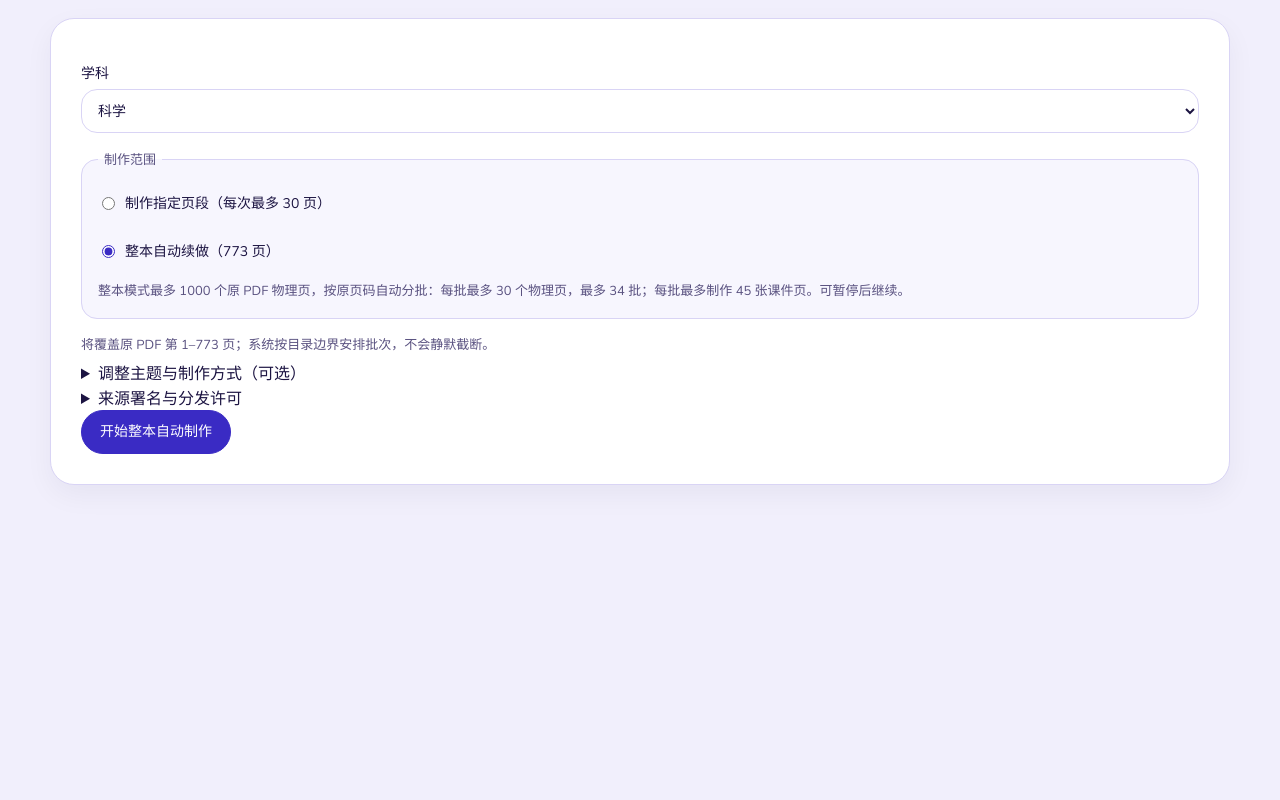
Test: user Given a 773-page textbook When opening new production Then whole-book is recommended without starting until the explicit action
The width and height of the screenshot is (1280, 800).
Expected: the radio button labelled "整本自动续做（773 页）" is checked, [102, 244, 115, 258]
Click the button "开始整本自动制作".
click(156, 432)  # box [81, 410, 231, 454]
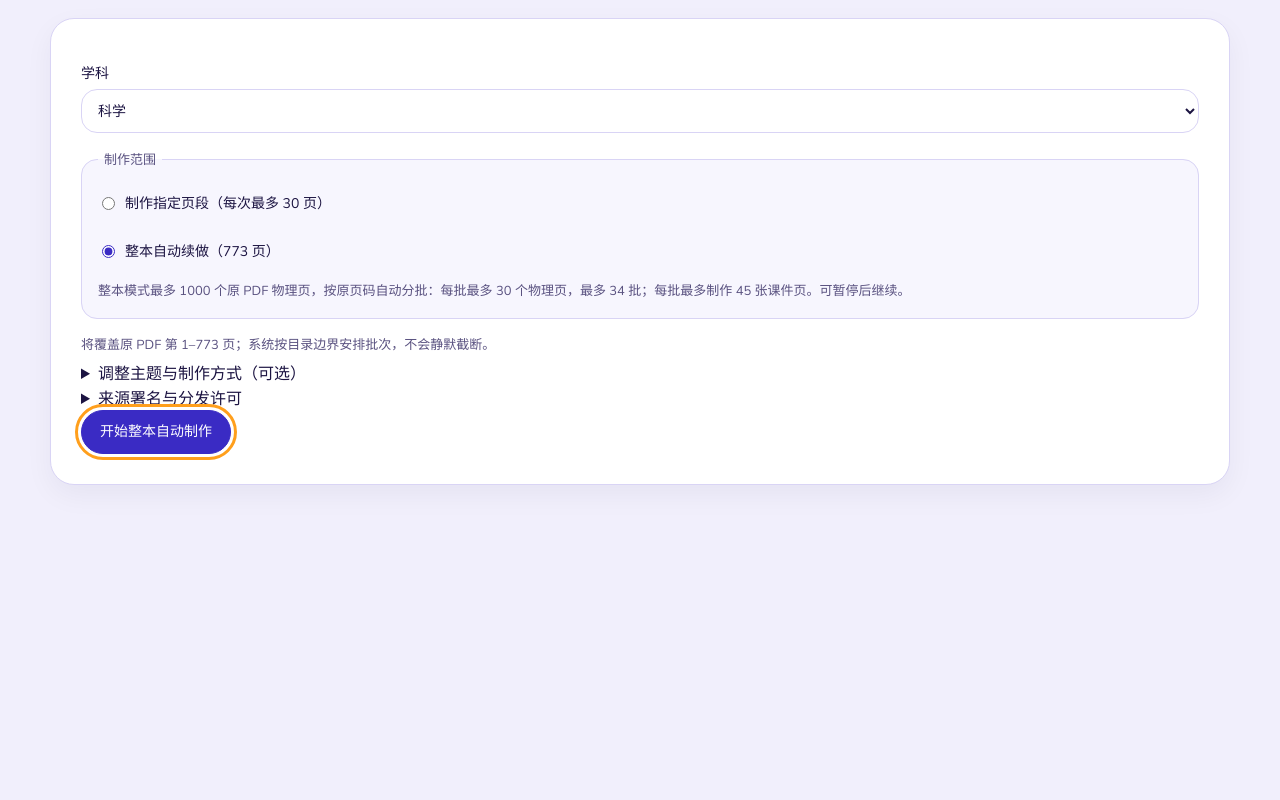
Click the radio button labelled "制作指定页段（每次最多 30 页）".
click(108, 203)  # box [102, 196, 115, 210]
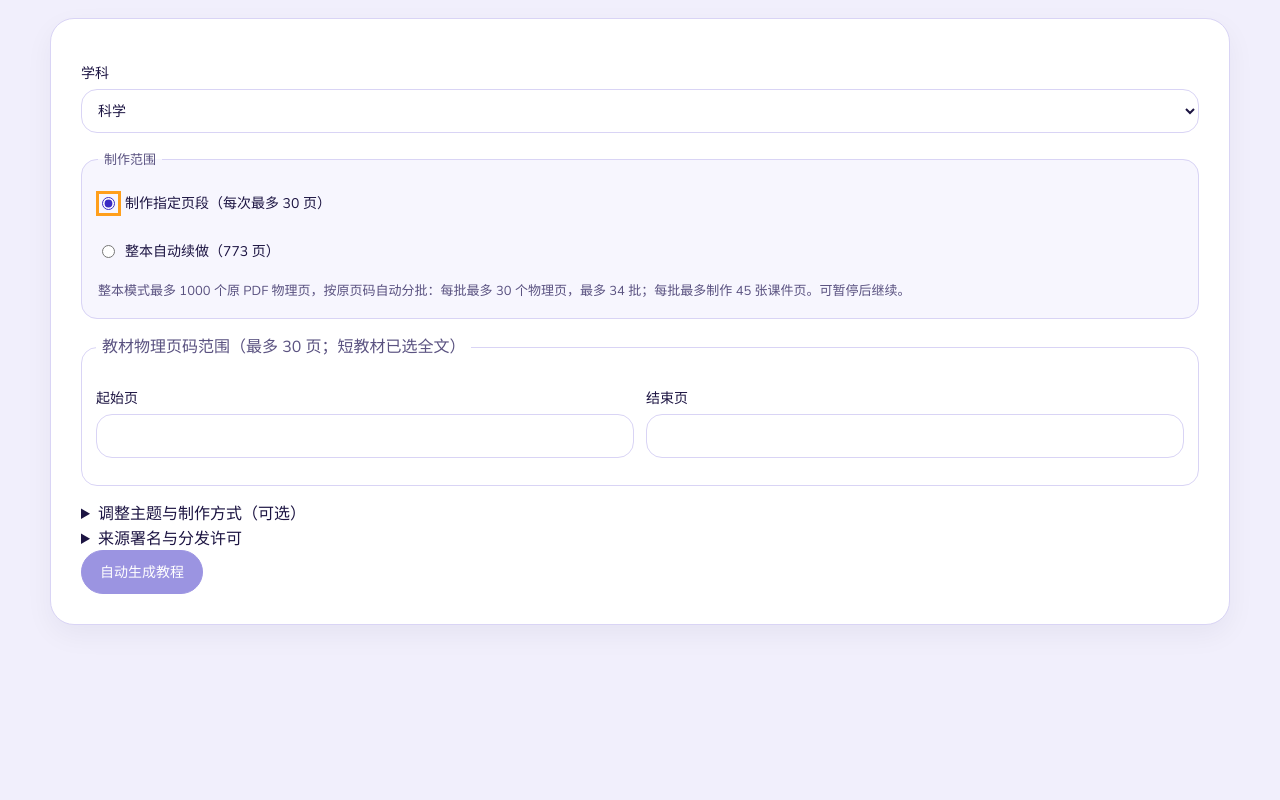
Type "45" into the number field labelled "起始页".
click(365, 436); type("45")  # box [96, 414, 634, 458]
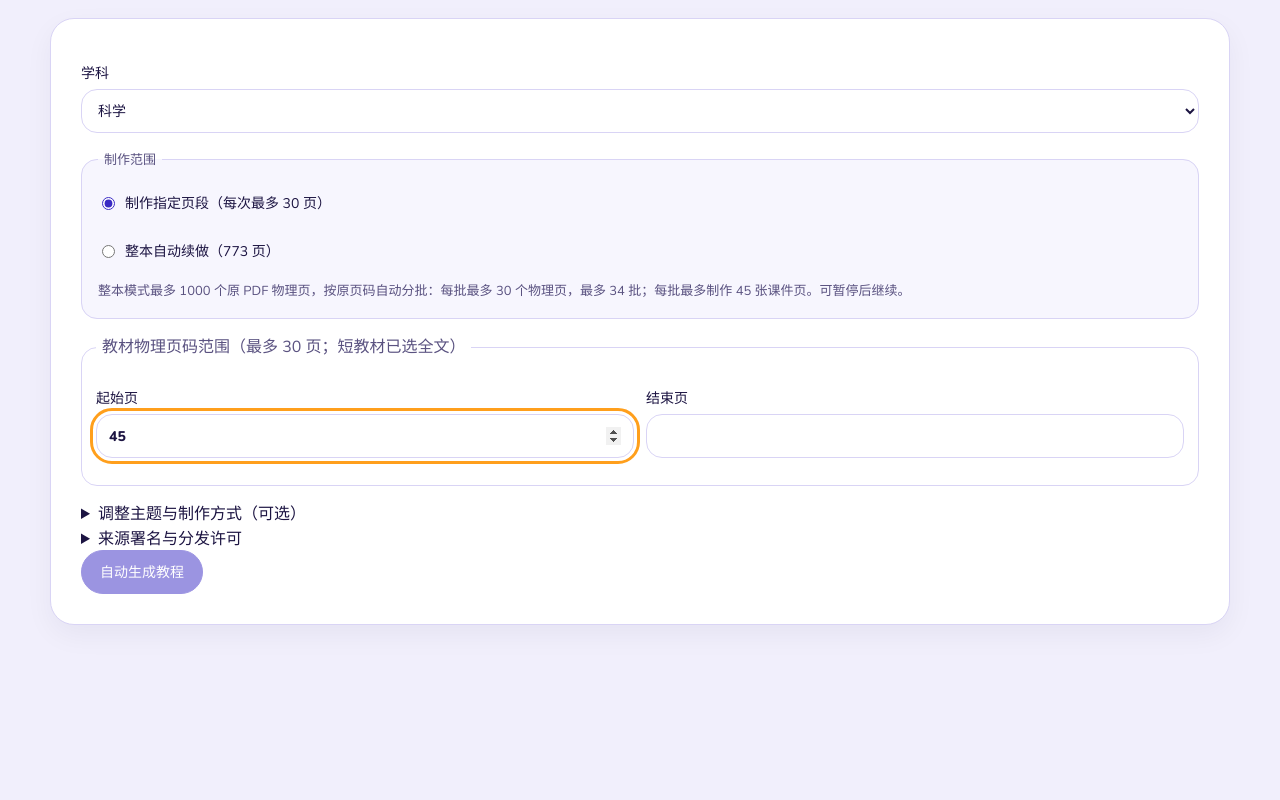
Type "60" into the number field labelled "结束页".
click(915, 436); type("60")  # box [646, 414, 1184, 458]
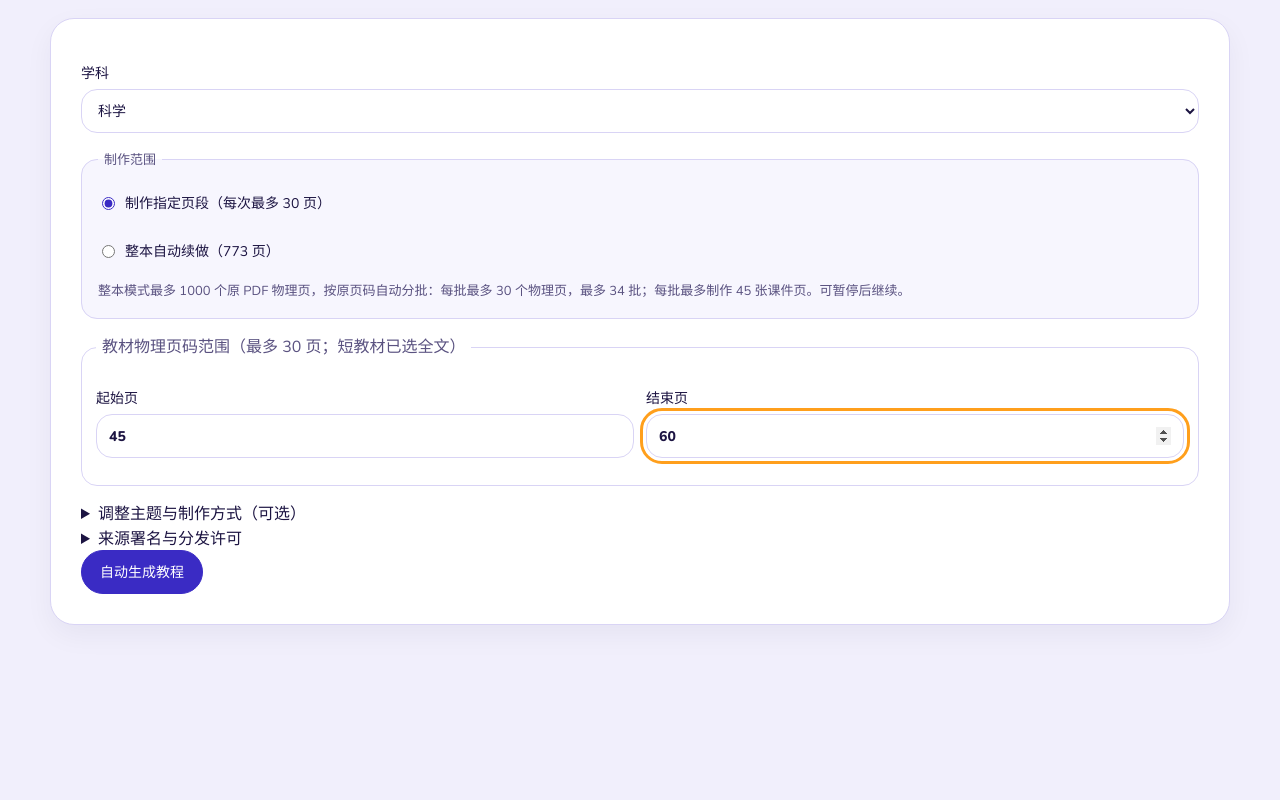
Click the radio button labelled "整本自动续做（773 页）".
click(108, 251)  # box [102, 244, 115, 258]
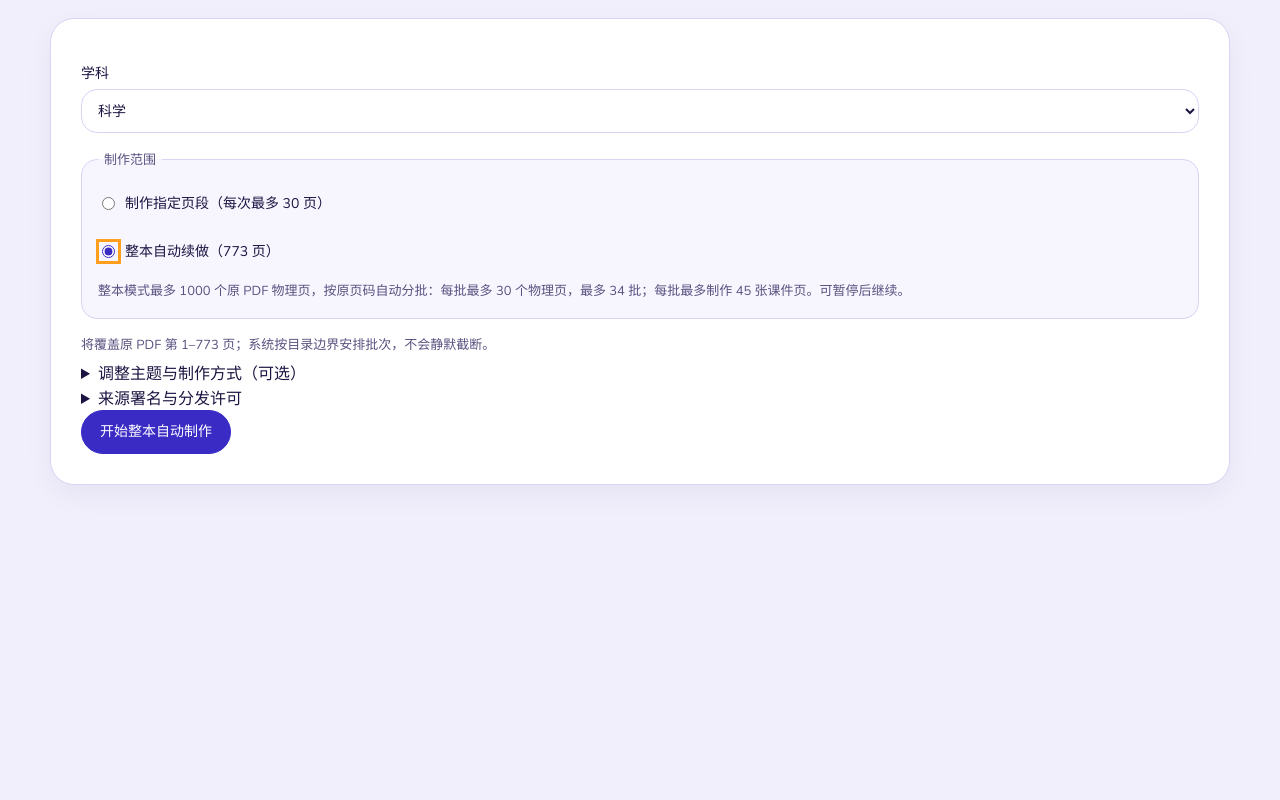
Click the radio button labelled "制作指定页段（每次最多 30 页）".
click(108, 203)  # box [102, 196, 115, 210]
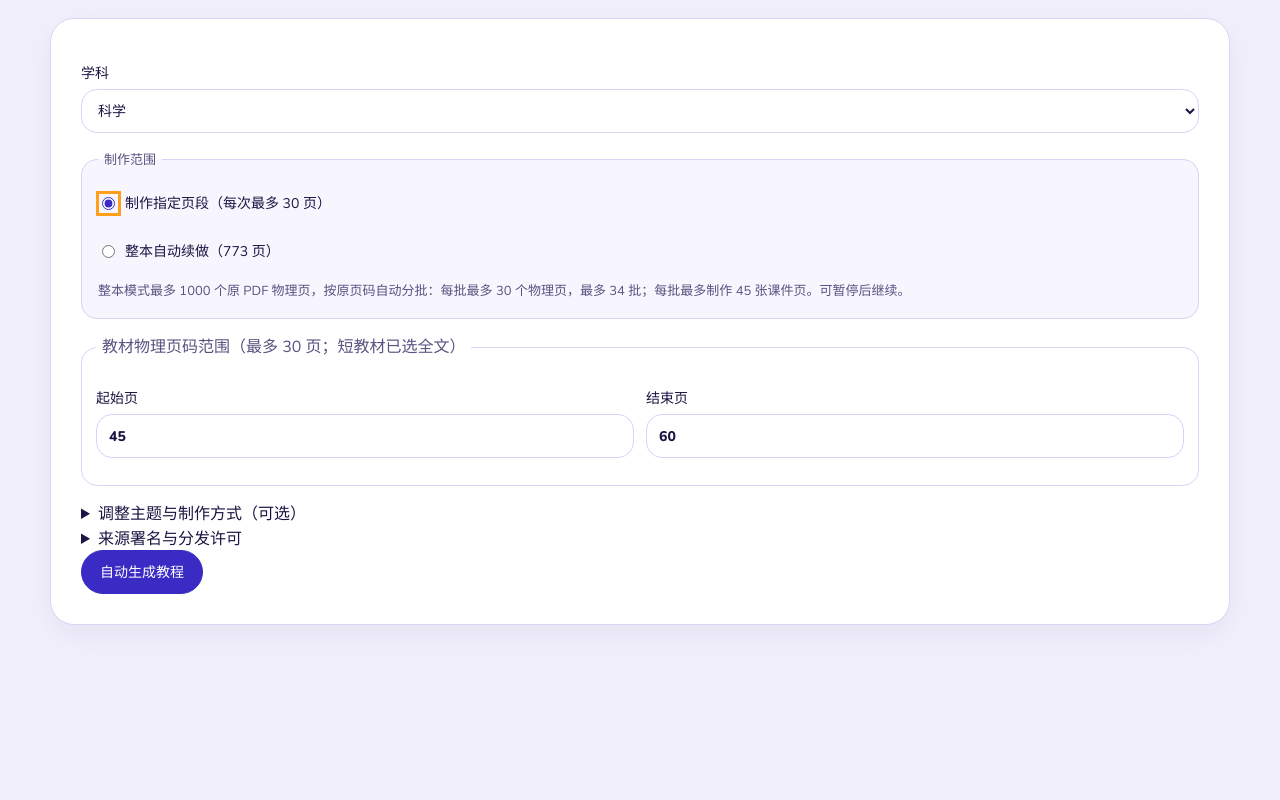
Expected: the number field labelled "起始页" holds "45", [96, 414, 634, 458]
Expected: the number field labelled "结束页" holds "60", [646, 414, 1184, 458]
